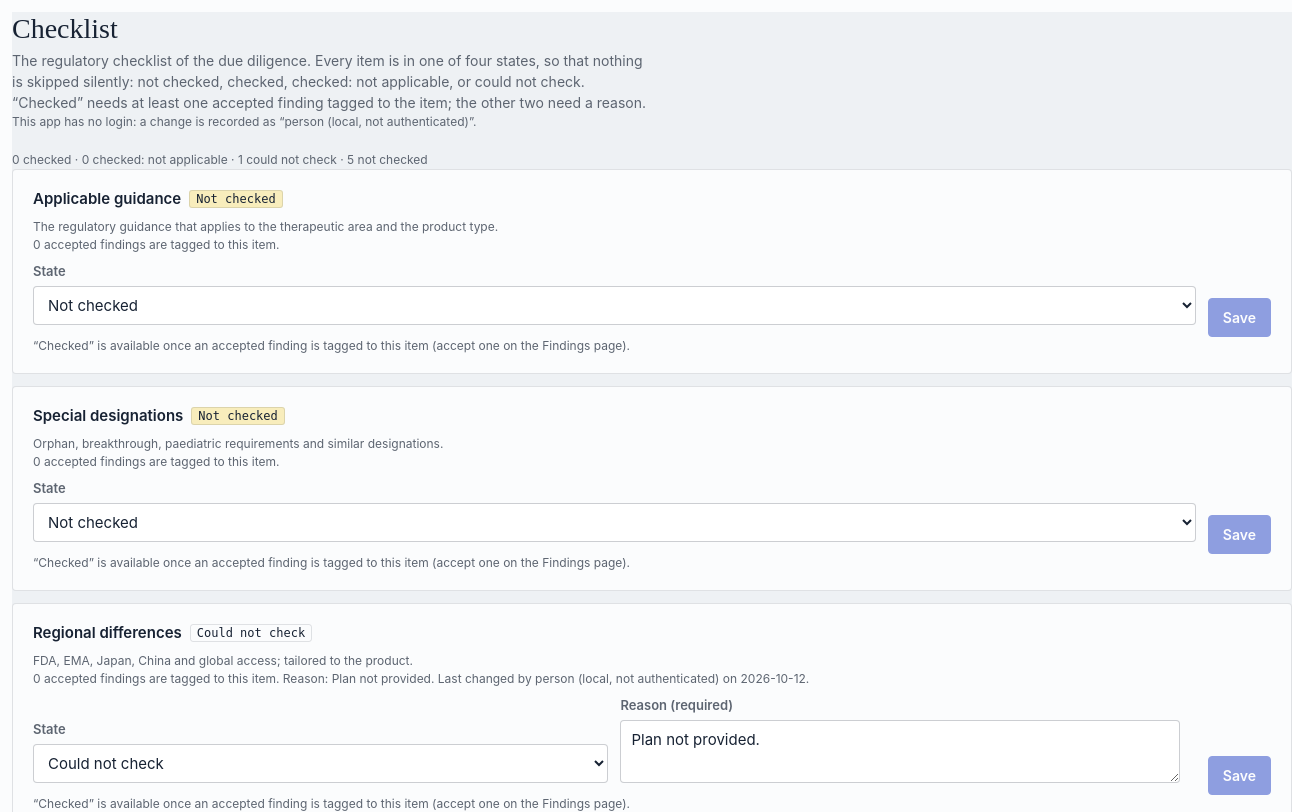
ChecklistPanel › keeps Save off until something changed
Expected: the button with aria-label "Save Regional differences" is disabled, [1208,756,1271,795]
Type "!" into the text box named "Reason for Regional differences" at x=900, y=751, box [620,720,1180,783]
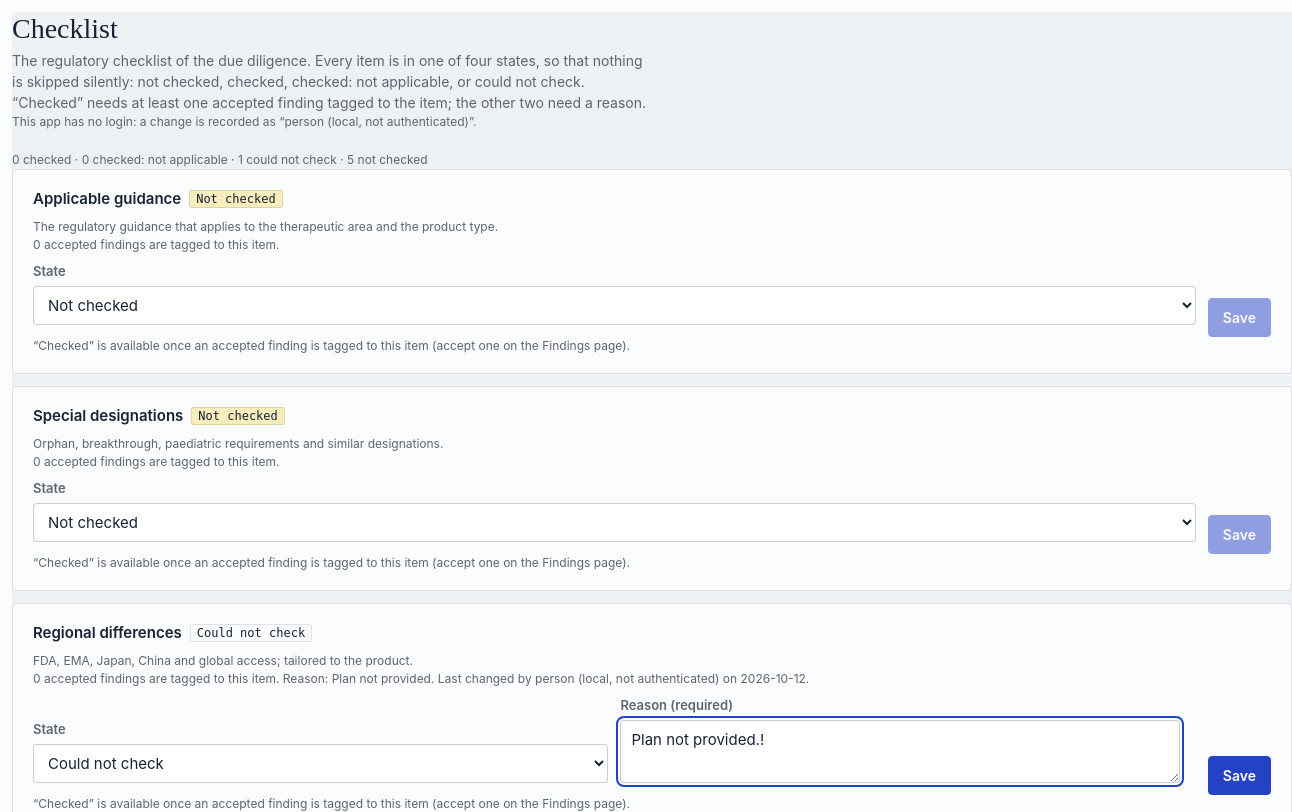
Now the button with aria-label "Save Regional differences" is enabled, box [1208,756,1271,795]
